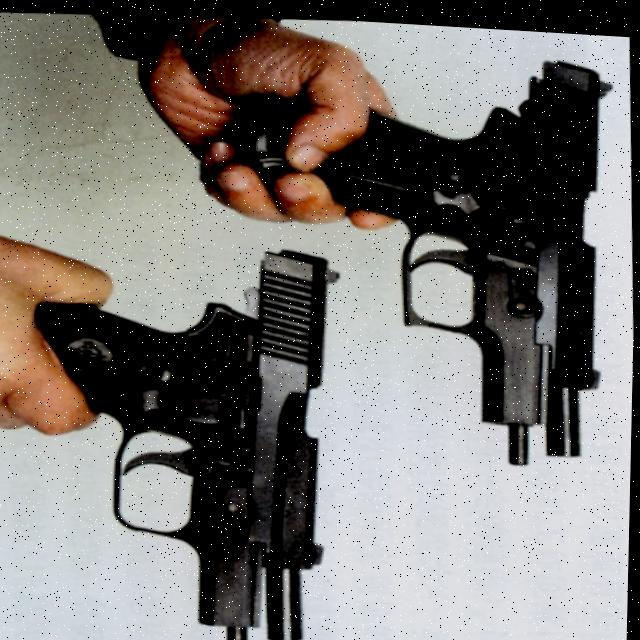pistol: (236, 34, 630, 471), (32, 235, 353, 640)
